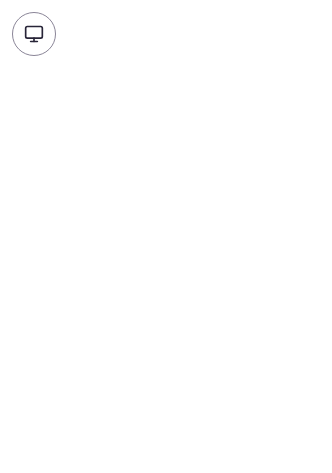
it: abre o menu com as três opções, a marcada e os atalhos
Click the button named "Trocar o tema": (34, 34) [12,12,56,56]
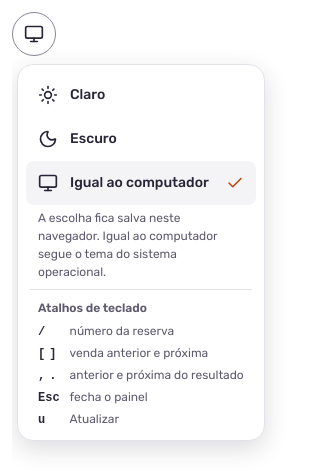
Result: the menu named "Tema" shows "A escolha fica salva neste navegador. Igual ao computador segue o tema do sistema operacional." at [38,211,217,279]
Result: the menu named "Tema" shows "Atalhos de teclado" at [38,301,147,315]
